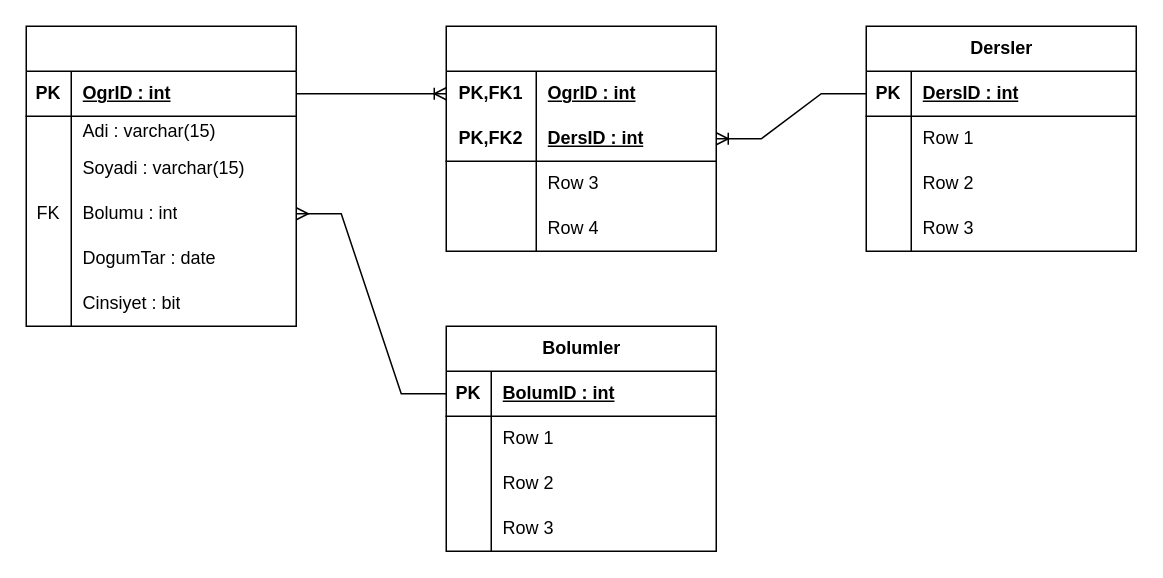
Image size: 1163x578. Some labels were removed from this diagram. The box of each missing label's shape, as (x1, y1, x2, y2) in pixels:
Notlar: (445, 25, 716, 251)
Ogrenci: (25, 25, 296, 326)
